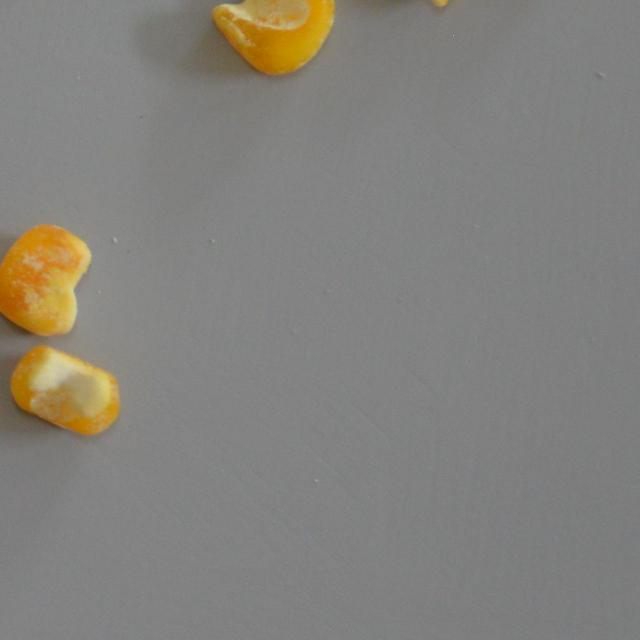dañado: (0, 220, 93, 340), (207, 0, 338, 81)
pelicula: (6, 340, 123, 439), (378, 0, 480, 12)
